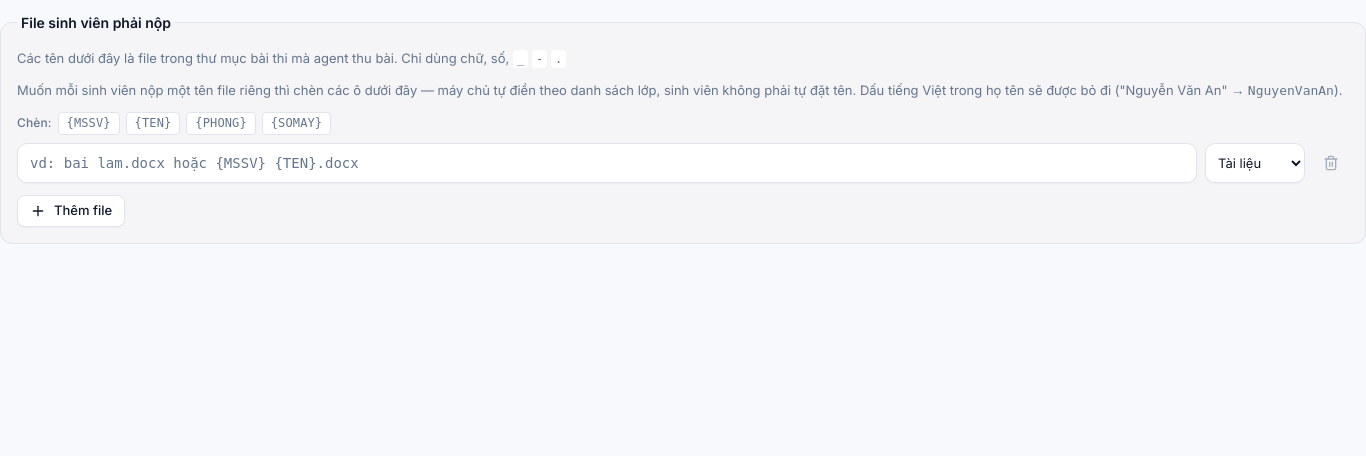
Scenario: RequiredFilenamesInput — cảnh báo .rar cần WinRAR › không phân biệt hoa/thường đuôi .RAR
Type "BaiThi.RAR" into the field with placeholder "vd: bai_lam.docx hoặc {MSSV}_{TEN}.docx". click: point(607, 163)
box: [17, 143, 1197, 183]
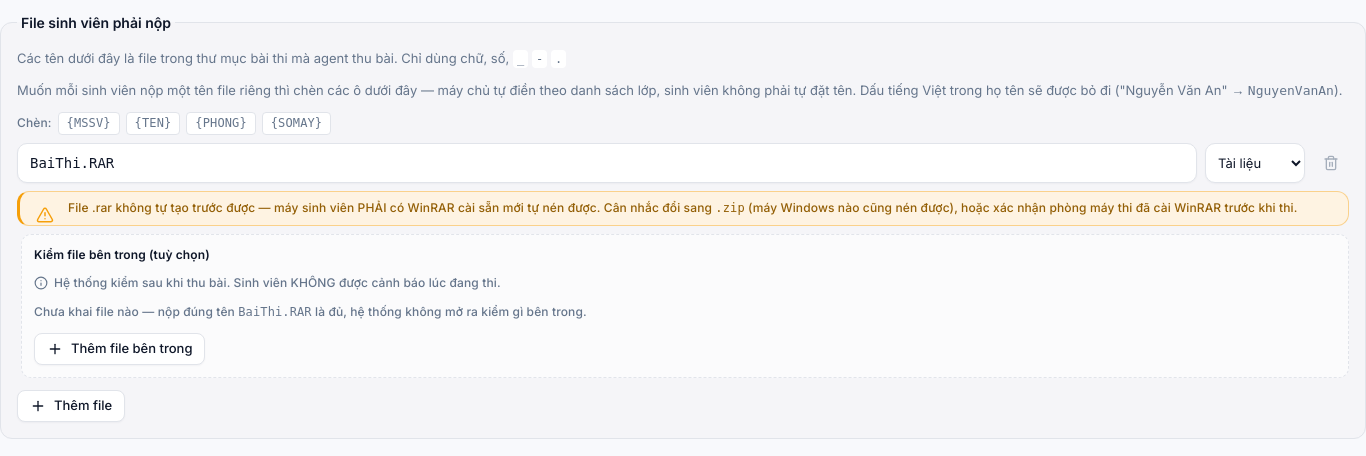
Now the text "WinRAR" is shown, box [68, 200, 712, 215]
